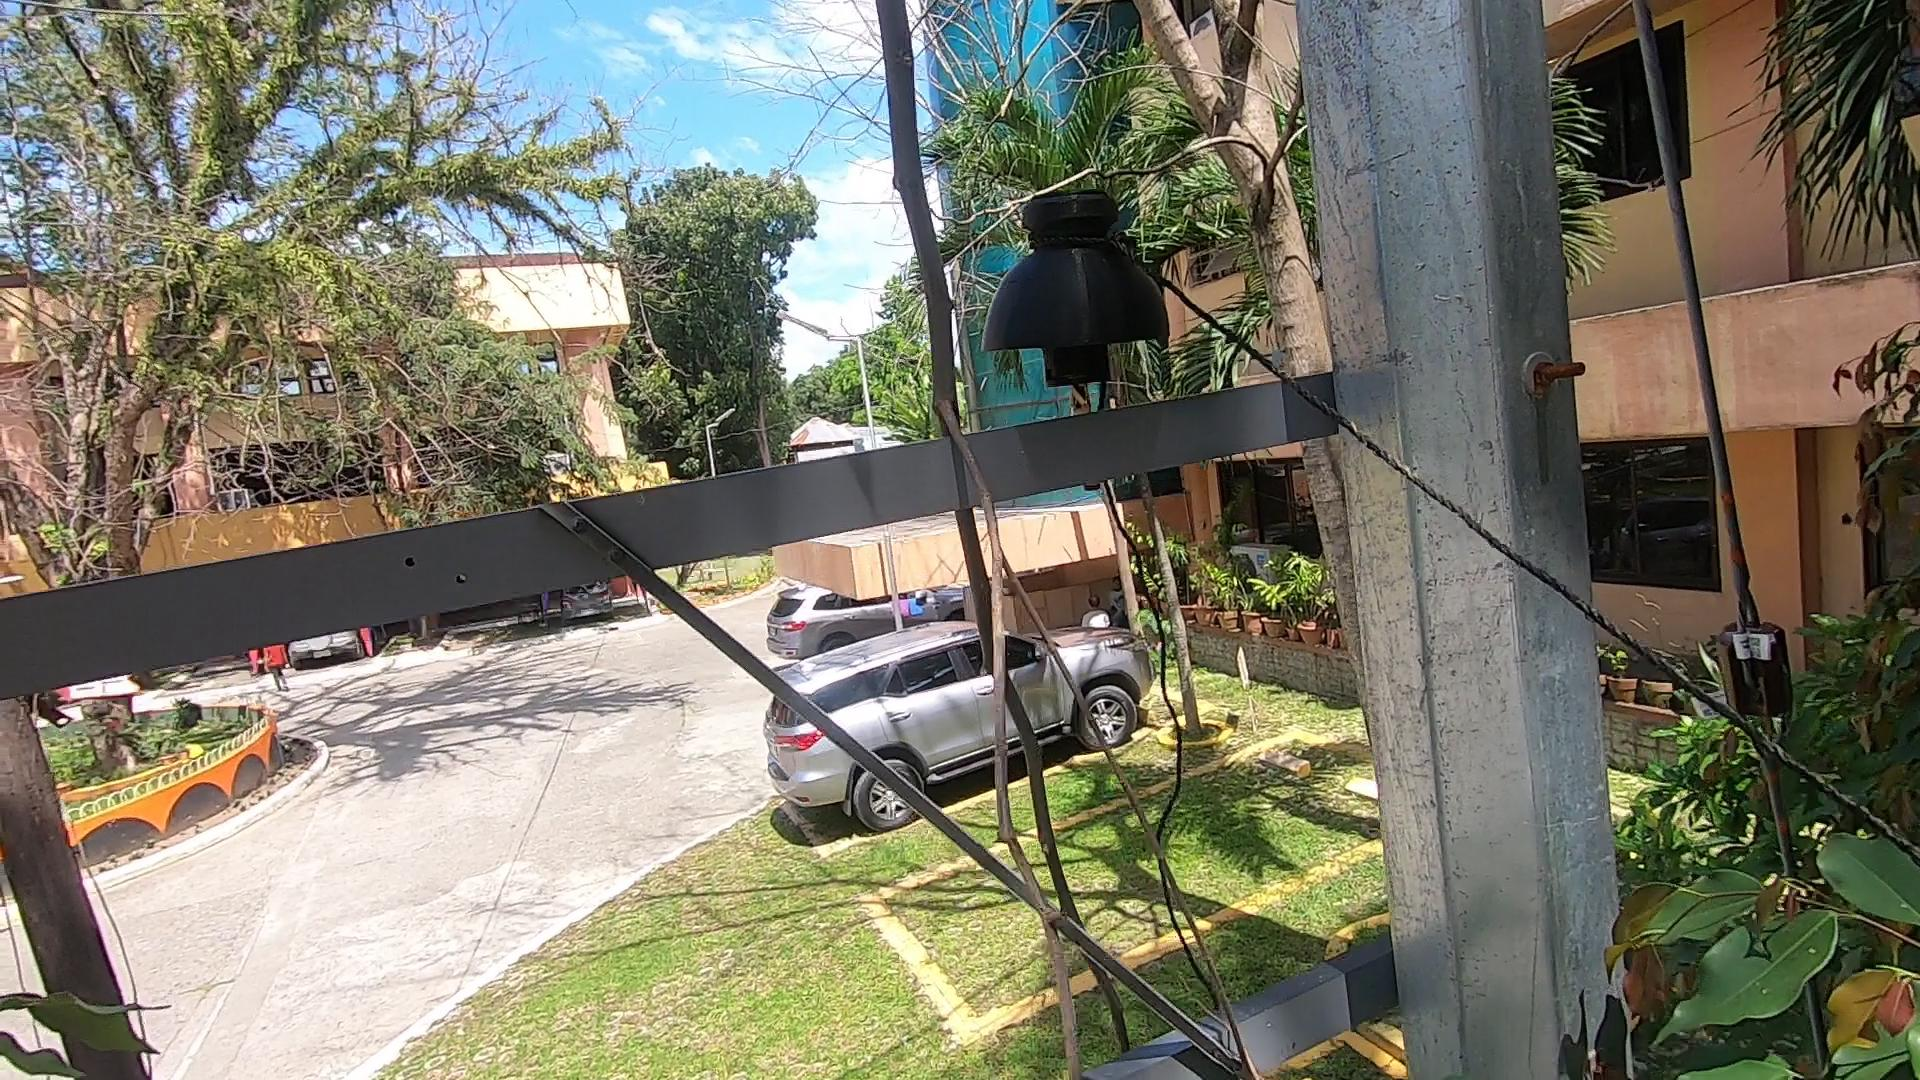tree branch: (822, 9, 1207, 1080)
